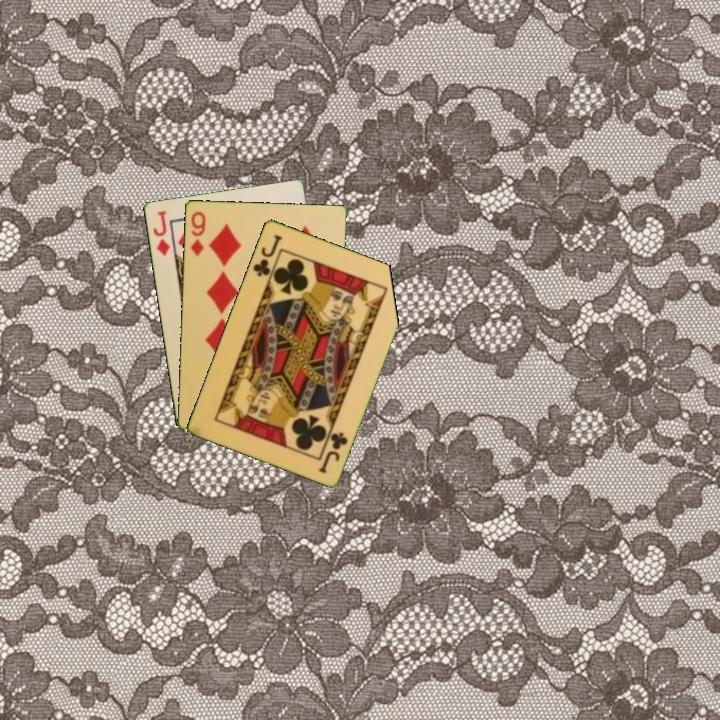9d: (186, 208, 208, 259)
Jc: (249, 230, 285, 279), (315, 428, 351, 476)
Jd: (149, 207, 172, 258)
